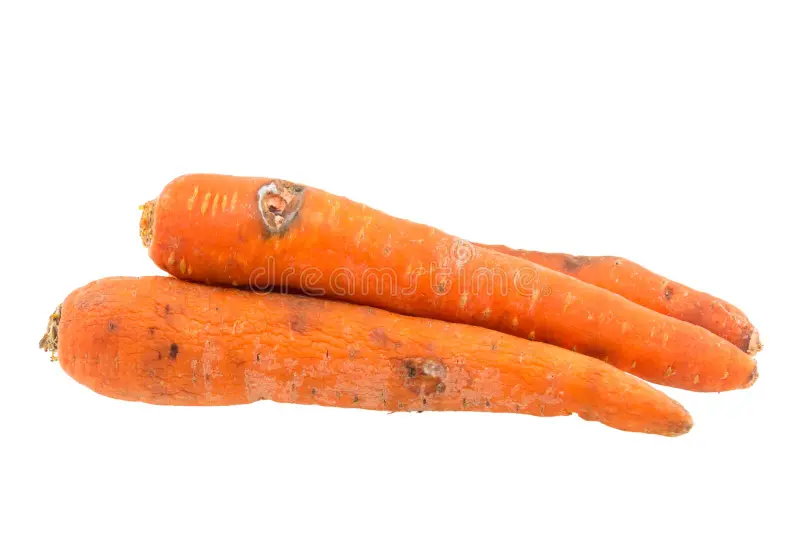rotten carrot: (37, 134, 800, 457)
